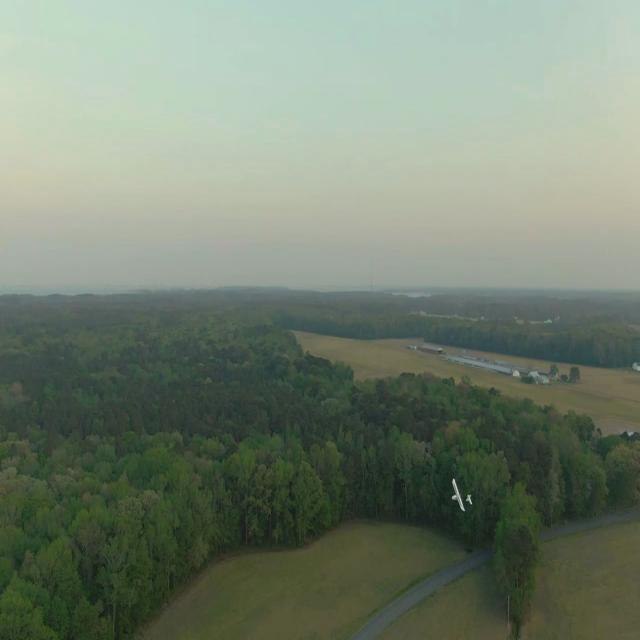iha: (436, 474, 472, 515)
